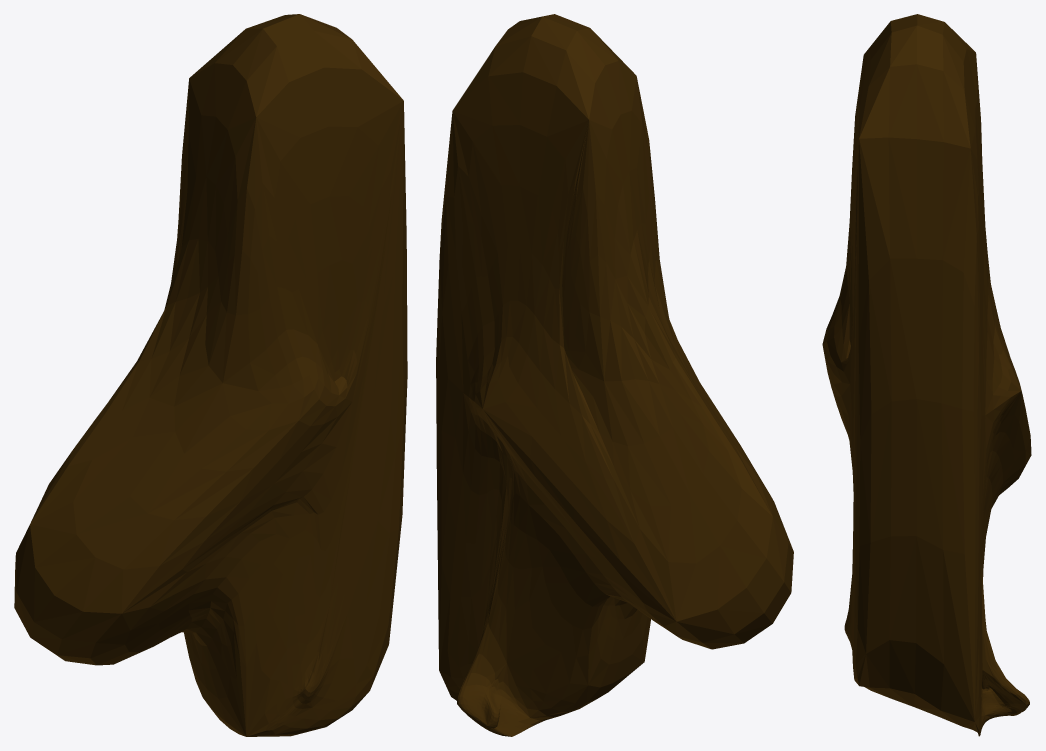
3 renders of one model, left to right at view 1: azimuth 30°, elevation 25°; view 2: azimuth 150°, elevation 25°; view 3: azimuth 270°, elevation 25°, orthographic. The views are drawn at different scales.
Parts seen in each view (by area): view 1: 083_Cube.342; view 2: 083_Cube.342; view 3: 083_Cube.342.
Part boxes in pixels (box(x1,y1,x2,y2)): 083_Cube.342: box(14, 14, 407, 736); 083_Cube.342: box(436, 14, 793, 736); 083_Cube.342: box(822, 14, 1031, 736).
Bounding box in the file's own units: 6.09 × 11.71 × 3.2.
